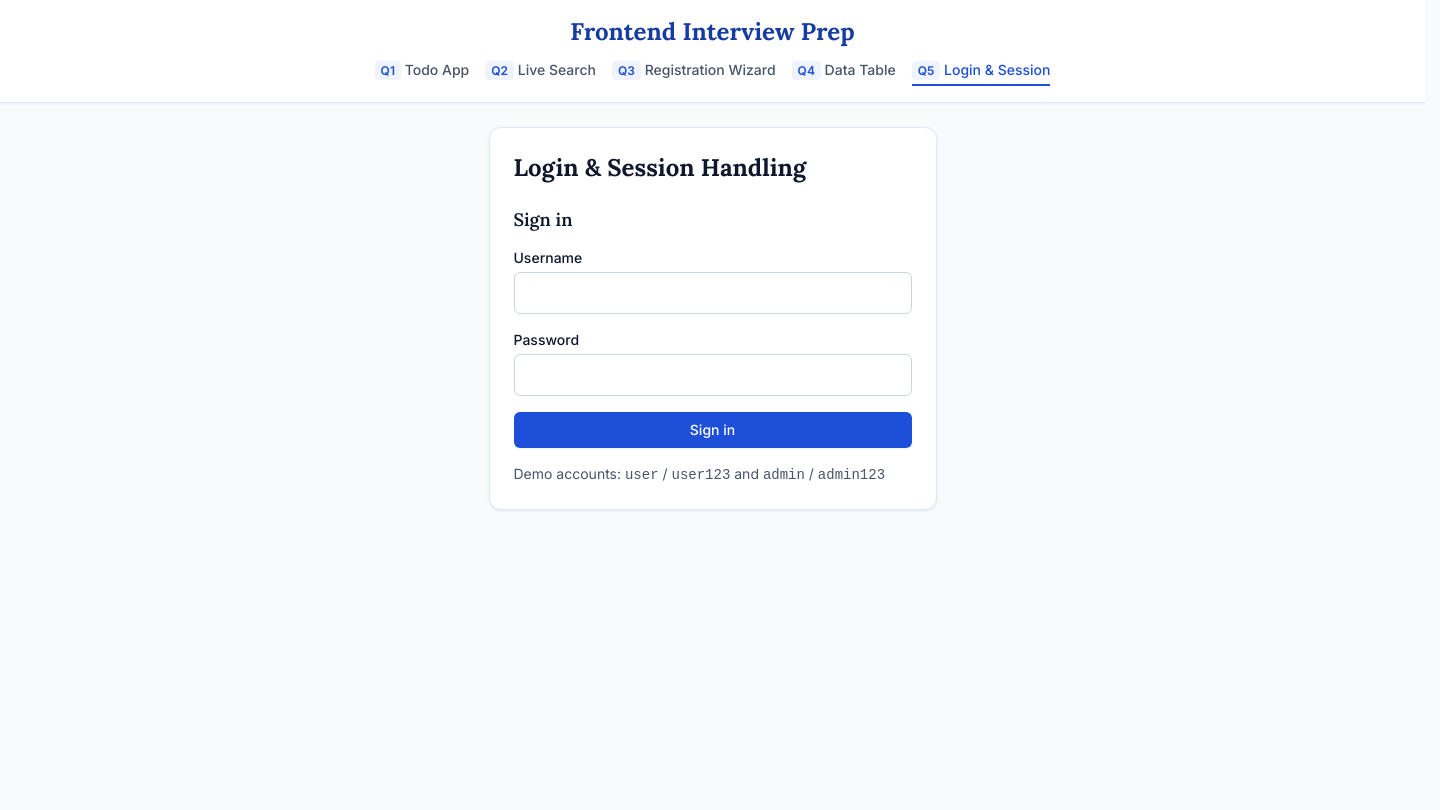
Test: login and session flow › opens the orders page after a plain login
Type "user" into the field labelled "Username" at (712, 293), box [514,272,912,314]
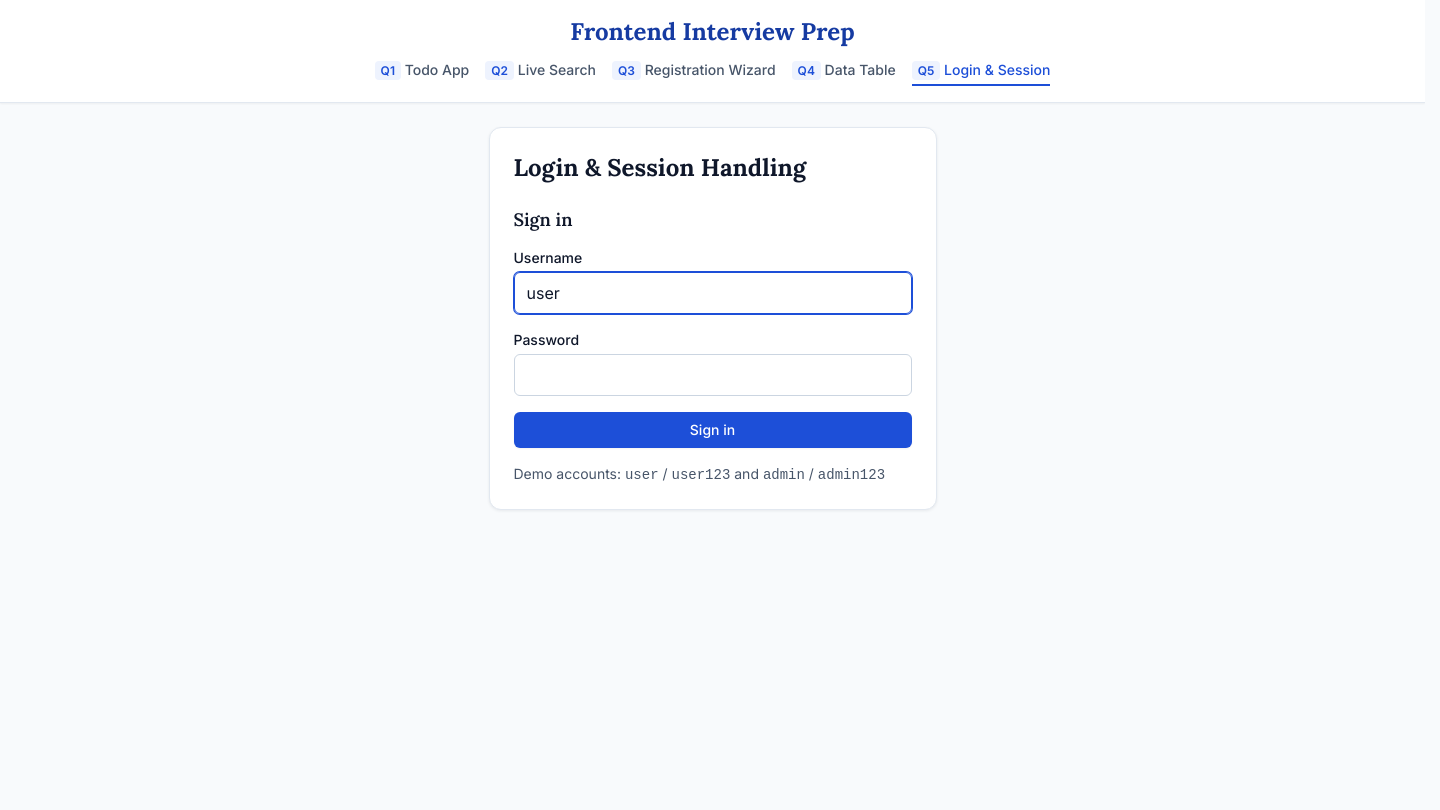
Type "user123" into the password field labelled "Password" at (712, 375), box [514,354,912,396]
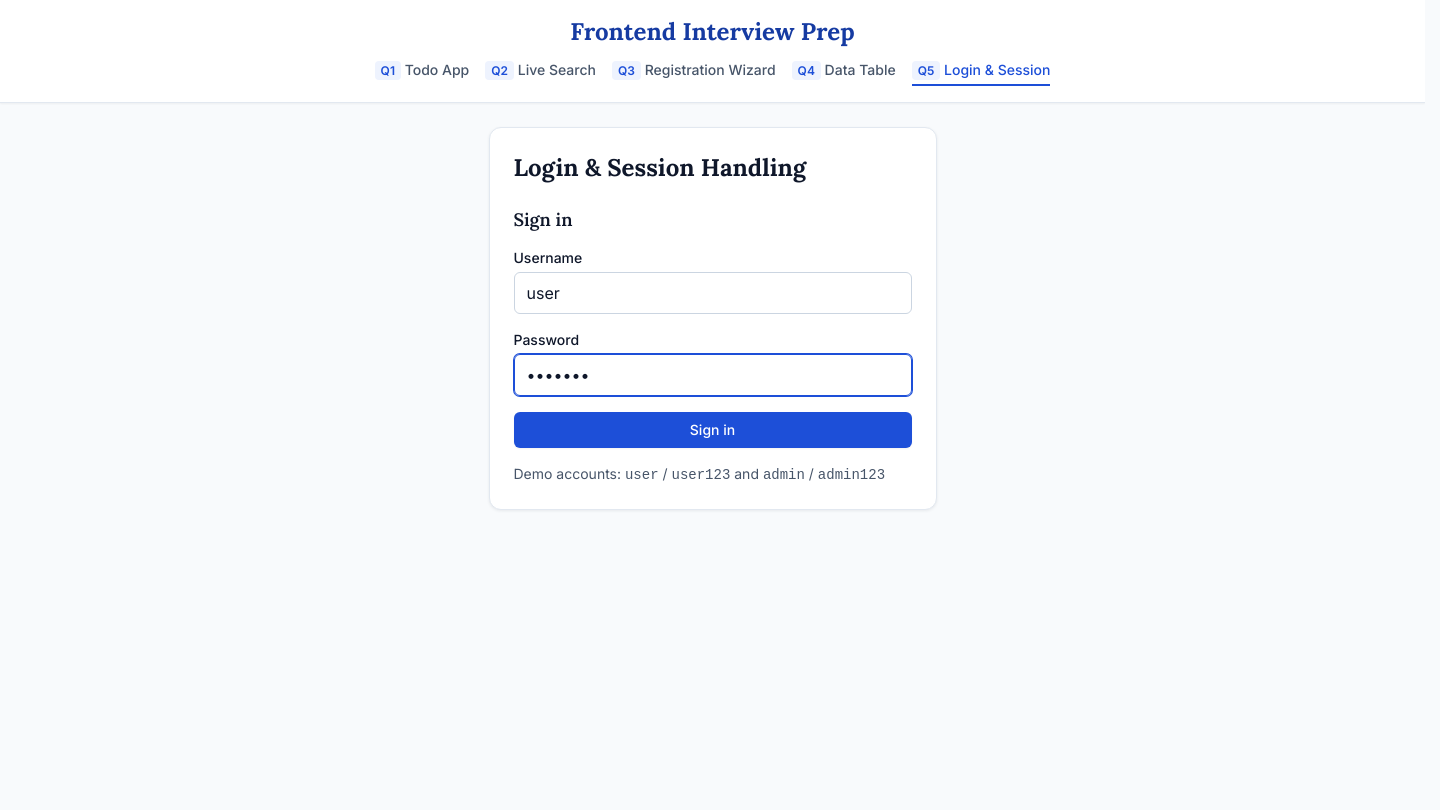
Click the button "Sign in" at (712, 430), box [514,412,912,448]
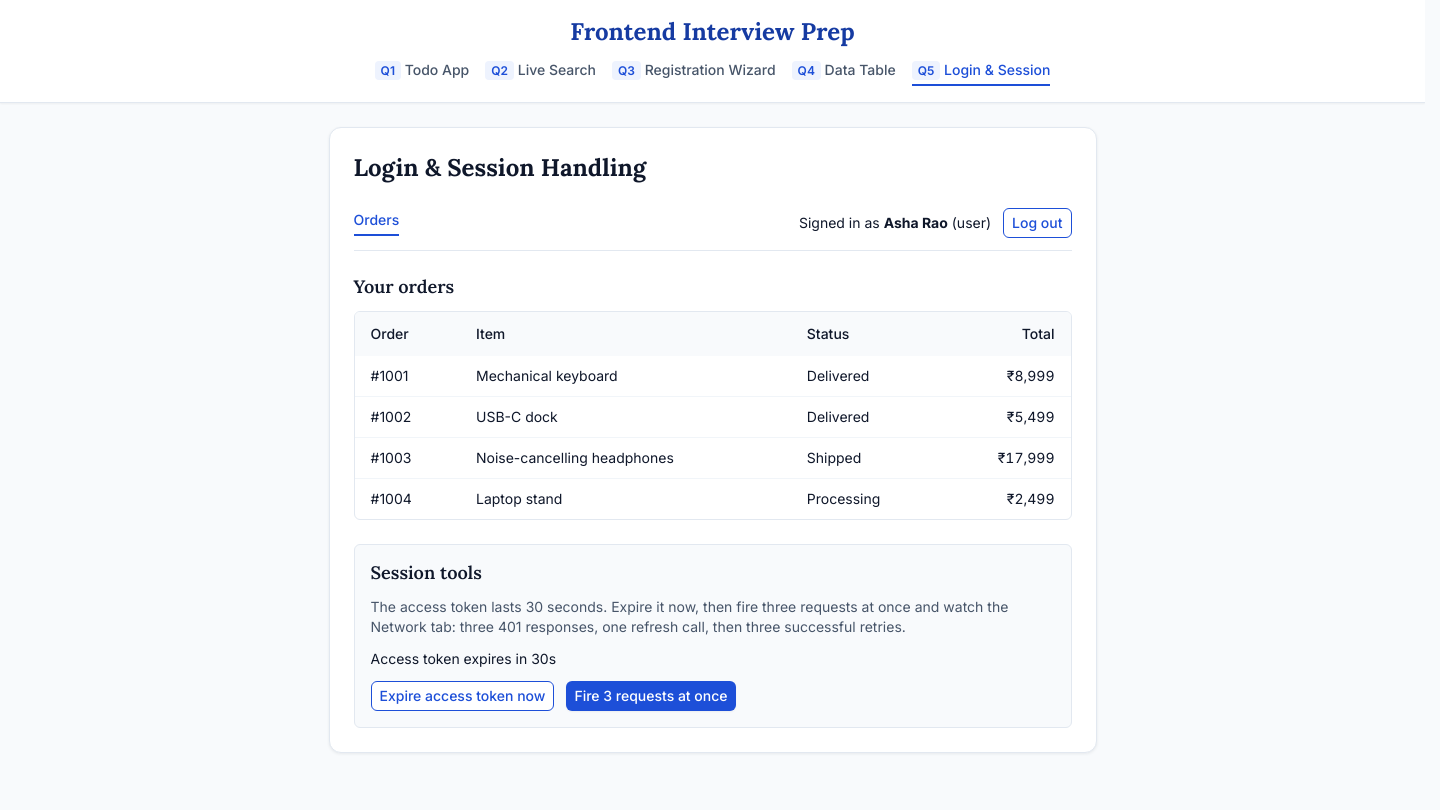
Check: the heading "Your orders" is shown, box [354,275,454,298]
Check: the text "Laptop stand" is shown, box [460,478,791,519]
Check: the text "Signed in as Asha Rao (user)" is shown, box [799,213,991,233]
